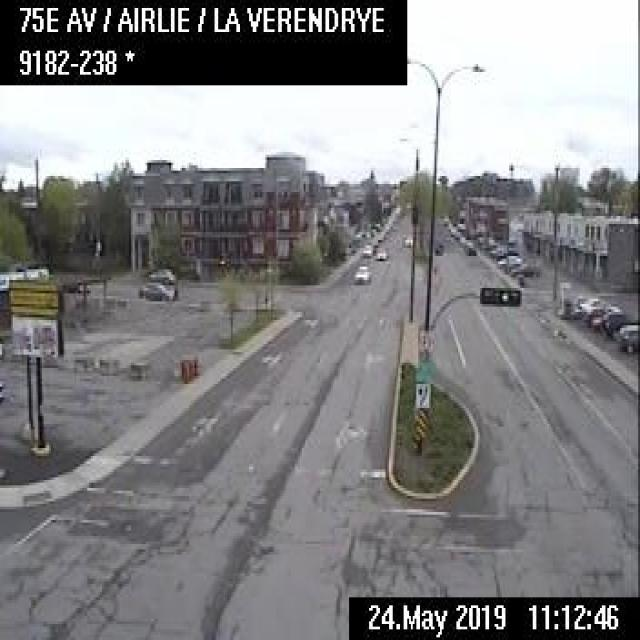construction: (193, 352, 200, 373), (182, 360, 188, 382), (188, 357, 194, 378)
vehicle: (136, 278, 176, 299), (614, 321, 638, 352), (592, 307, 622, 330), (510, 260, 540, 278), (576, 294, 605, 312), (146, 265, 175, 282), (351, 262, 369, 282), (496, 253, 521, 267), (463, 239, 475, 255), (374, 246, 388, 258), (360, 241, 372, 254), (402, 235, 411, 245)
